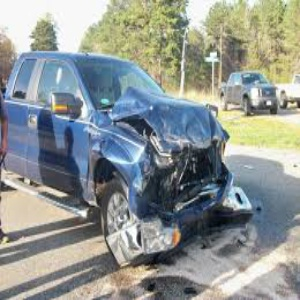bumper: (21, 153, 171, 273)
